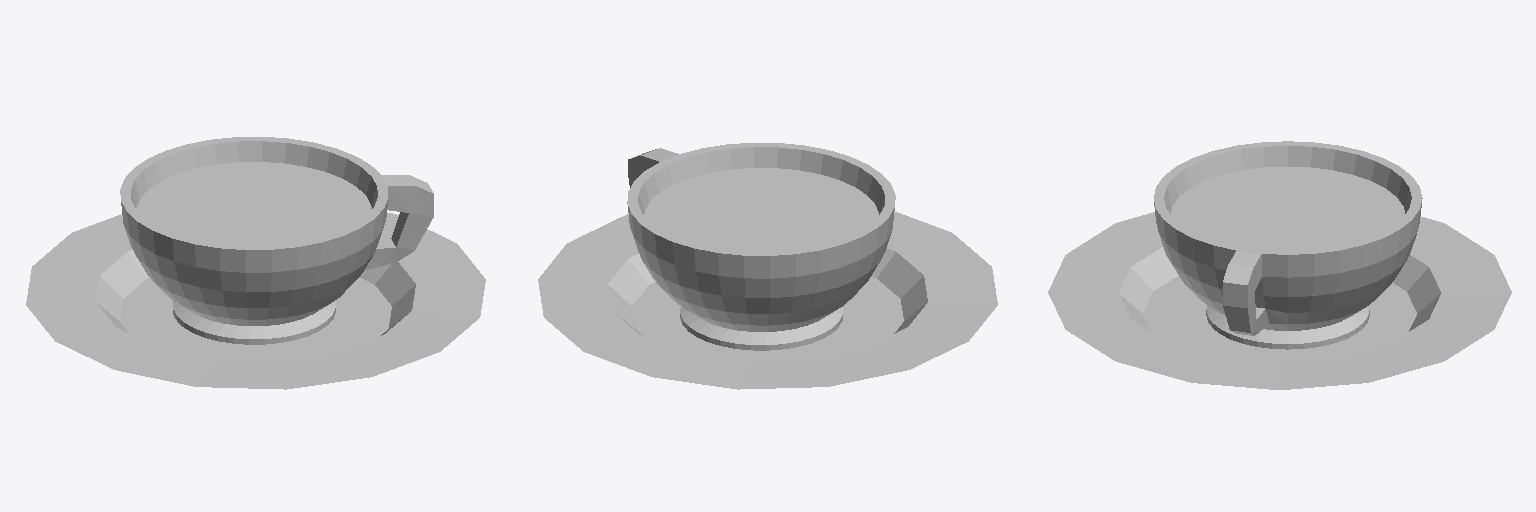
The model's file is teacup.obj.
3 renders of one model, left to right at view 1: azimuth 30°, elevation 25°; view 2: azimuth 150°, elevation 25°; view 3: azimuth 270°, elevation 25°, orthographic.
Parts seen in each view (by area): view 1: Sphere.006, Sphere.005, Circle; view 2: Sphere.006, Sphere.005, Circle; view 3: Sphere.006, Sphere.005, Circle.
Part boxes in pixels (bbox=[...]): Sphere.006: bbox=[26, 197, 485, 389]; Sphere.005: bbox=[96, 137, 433, 360]; Circle: bbox=[137, 162, 371, 245]; Sphere.006: bbox=[538, 203, 997, 389]; Sphere.005: bbox=[608, 143, 927, 360]; Circle: bbox=[644, 168, 878, 251]; Sphere.006: bbox=[1048, 198, 1511, 389]; Sphere.005: bbox=[1119, 141, 1440, 360]; Circle: bbox=[1171, 167, 1404, 249].
Size of the model in its own units: 1.43 by 0.4012 by 1.43.